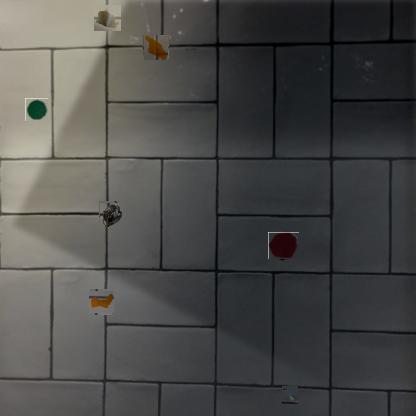dirty: (93, 4, 121, 32), (99, 202, 123, 228), (89, 290, 113, 314), (25, 98, 48, 121), (282, 386, 298, 404)
liquid: (269, 231, 298, 260), (144, 34, 168, 60)
